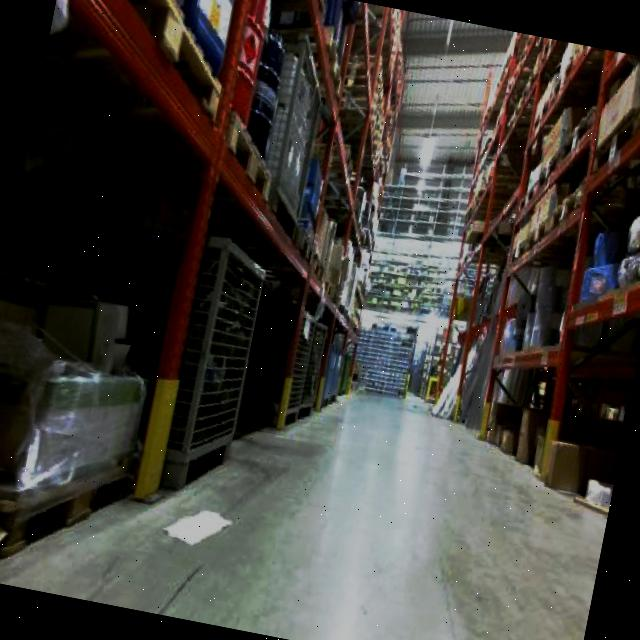ground: (0, 310, 624, 640)
pallet: (405, 28, 640, 541), (0, 265, 171, 604), (158, 231, 275, 499)
